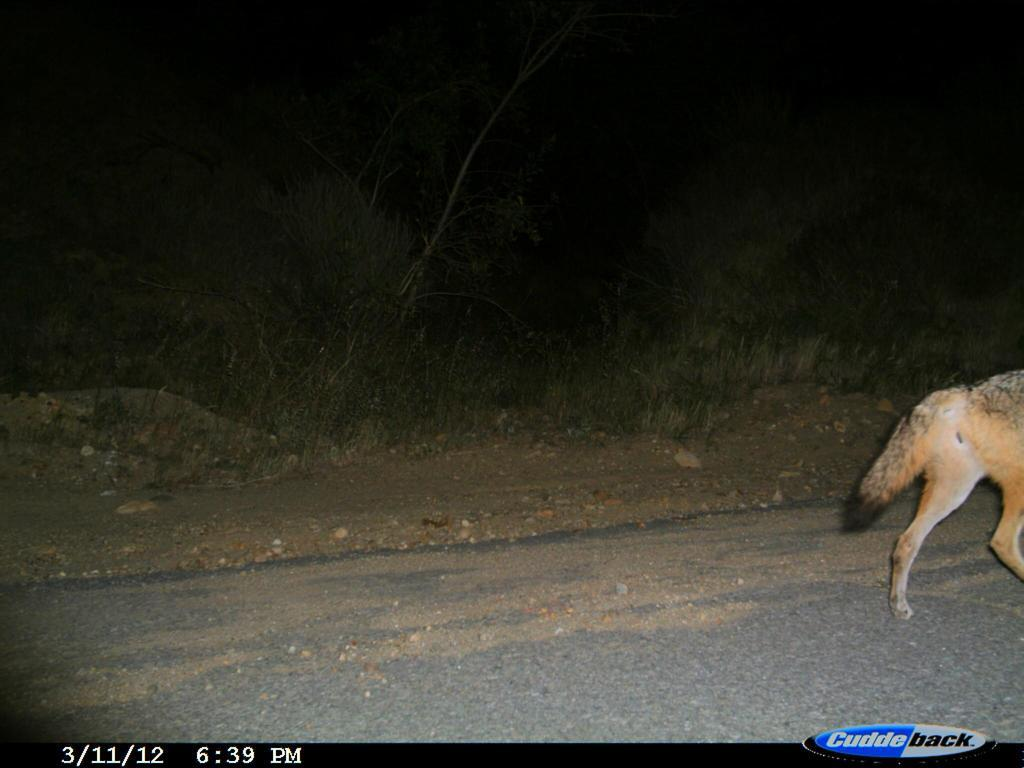coyote: (835, 364, 1023, 630)
